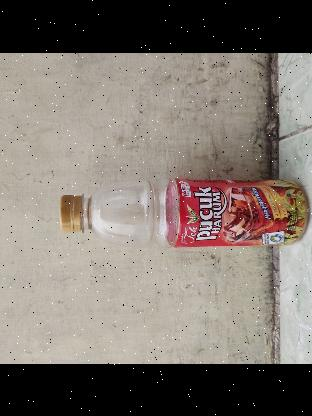Plastic Bottle: (59, 176, 309, 247)
